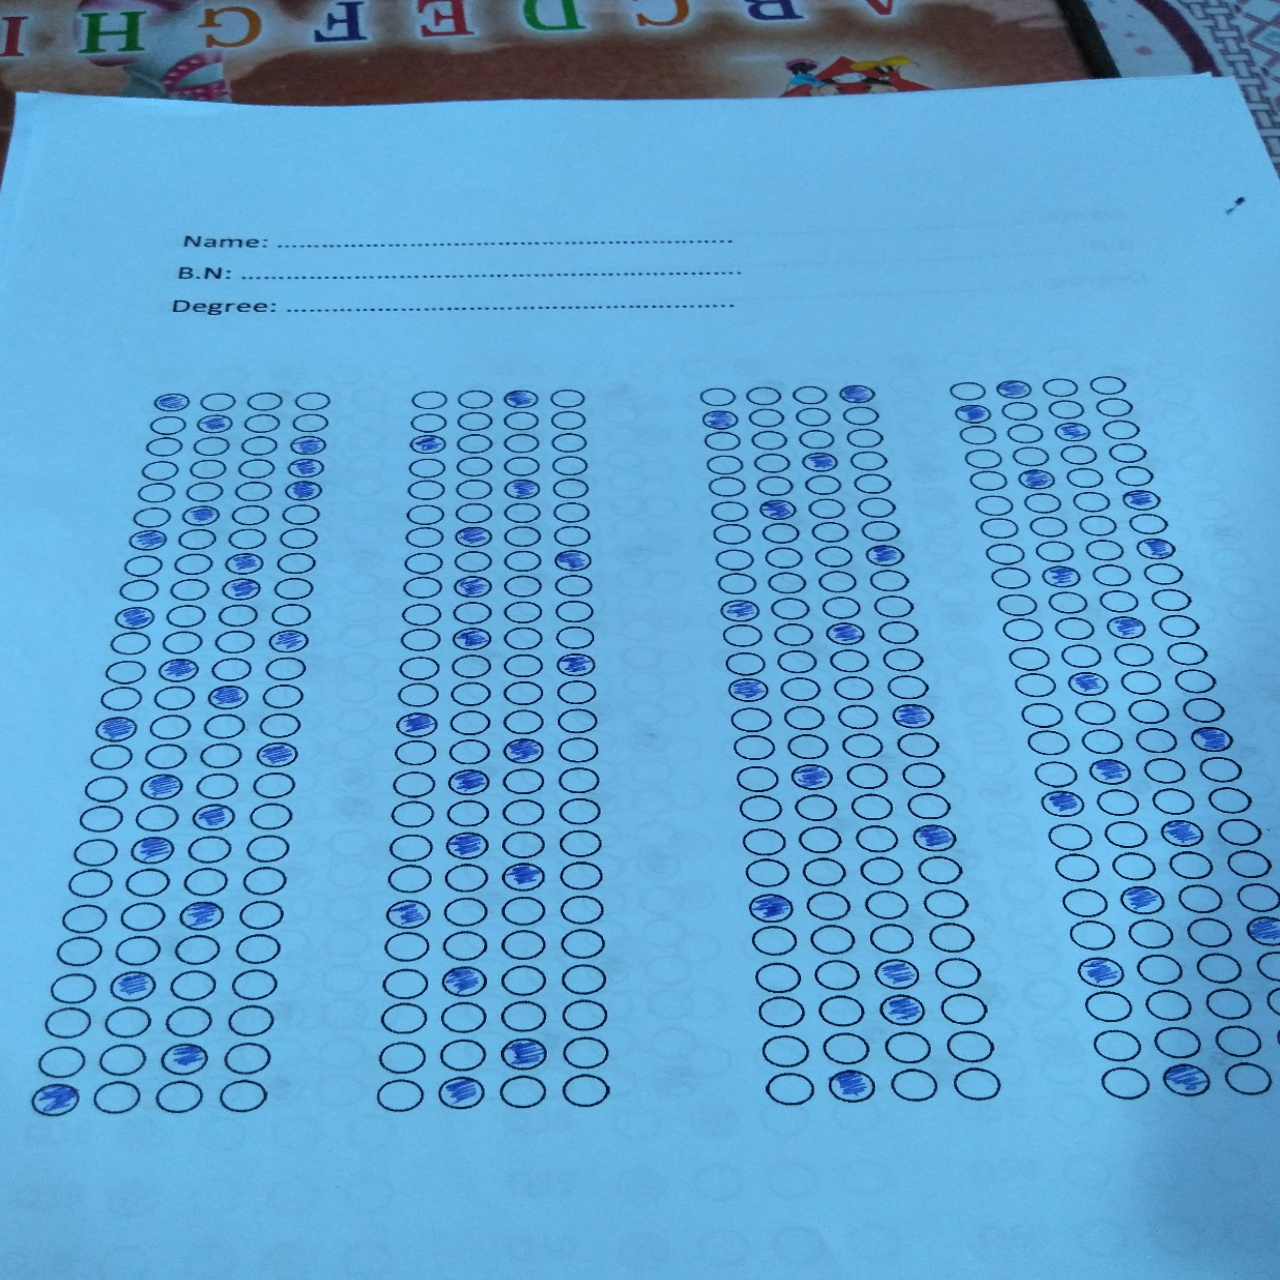not-c: (952, 1065, 1005, 1103), (1223, 1061, 1275, 1098), (1065, 917, 1118, 954), (888, 1067, 940, 1104), (761, 1033, 812, 1070), (379, 965, 431, 1001), (1194, 951, 1247, 987), (883, 1029, 935, 1065), (561, 1034, 612, 1071), (928, 919, 979, 956), (93, 1080, 144, 1116), (497, 1075, 549, 1111), (946, 1029, 998, 1065), (1152, 1024, 1204, 1061), (1091, 1028, 1143, 1064), (1143, 987, 1194, 1023), (1135, 952, 1186, 988), (815, 993, 866, 1029), (810, 956, 862, 993), (753, 960, 804, 996), (754, 994, 806, 1029), (96, 1042, 147, 1078), (379, 1000, 429, 1036), (561, 1074, 612, 1110), (1099, 1065, 1150, 1102), (1216, 1022, 1266, 1058), (1083, 988, 1133, 1024), (921, 886, 972, 922), (154, 1080, 205, 1115), (374, 1078, 425, 1114), (558, 964, 610, 999), (939, 992, 990, 1027), (1204, 987, 1255, 1022), (932, 956, 983, 992), (749, 924, 801, 959), (866, 921, 918, 956), (36, 1046, 87, 1081), (376, 1041, 427, 1076), (559, 998, 610, 1033), (764, 1073, 815, 1108), (821, 1030, 871, 1065), (806, 922, 857, 958), (802, 888, 853, 922), (438, 1037, 488, 1073), (862, 888, 912, 922), (741, 856, 792, 888), (738, 825, 790, 858), (795, 823, 846, 856), (45, 1006, 94, 1040), (168, 968, 218, 1001), (217, 1080, 267, 1112), (1175, 883, 1225, 915), (111, 933, 161, 966), (49, 971, 98, 1003), (102, 1006, 151, 1039), (223, 1042, 272, 1075), (799, 855, 849, 887), (1223, 847, 1272, 880), (1126, 918, 1176, 951), (1185, 915, 1234, 948), (237, 899, 287, 931), (59, 903, 109, 934), (55, 935, 105, 967), (171, 934, 222, 966), (163, 1005, 213, 1036), (857, 855, 907, 886), (915, 855, 966, 886), (1051, 853, 1102, 885), (1060, 887, 1110, 919), (1099, 818, 1150, 850), (1204, 784, 1254, 816), (556, 859, 604, 892), (382, 930, 430, 962), (234, 933, 282, 966), (501, 964, 549, 996), (501, 999, 549, 1032), (438, 1000, 486, 1033), (1167, 847, 1216, 880), (246, 801, 295, 832), (231, 968, 280, 1000), (226, 1005, 275, 1036), (1111, 850, 1160, 881), (1216, 816, 1265, 847), (442, 862, 490, 893), (498, 765, 546, 797), (498, 828, 546, 859), (557, 796, 605, 828), (554, 734, 602, 765), (441, 896, 489, 927), (442, 930, 490, 961), (558, 927, 606, 959), (118, 900, 166, 932), (1046, 821, 1095, 851), (445, 797, 493, 828), (499, 797, 547, 828), (556, 828, 604, 858), (556, 765, 604, 796), (557, 896, 605, 926), (501, 896, 549, 926), (499, 928, 547, 959), (72, 838, 120, 869), (727, 706, 775, 736), (1141, 755, 1189, 785), (1194, 753, 1242, 783), (1235, 881, 1280, 914), (244, 835, 293, 864), (240, 866, 290, 896), (906, 790, 953, 821), (193, 770, 241, 799), (197, 741, 245, 770), (67, 867, 115, 897), (181, 867, 229, 897), (1095, 787, 1143, 816), (852, 824, 900, 853), (851, 792, 899, 822), (792, 794, 840, 823), (730, 733, 778, 762), (722, 648, 770, 678), (1148, 787, 1197, 815), (447, 736, 493, 765), (250, 770, 297, 799), (188, 835, 234, 864), (445, 708, 493, 736), (81, 775, 129, 803), (123, 869, 171, 897), (737, 794, 785, 822), (733, 765, 781, 794), (1032, 760, 1080, 788), (387, 864, 433, 893), (79, 804, 124, 833), (389, 799, 436, 828), (142, 742, 189, 770), (87, 742, 134, 770), (132, 804, 179, 832), (392, 738, 440, 765), (108, 629, 154, 658), (390, 769, 436, 797), (840, 731, 886, 760), (844, 762, 890, 790), (1125, 697, 1171, 726), (388, 835, 435, 862), (719, 621, 765, 648), (159, 629, 205, 656), (552, 624, 598, 651), (501, 651, 546, 678), (502, 708, 547, 735), (151, 683, 197, 710), (257, 712, 302, 738), (202, 712, 247, 738), (149, 714, 195, 741), (775, 648, 821, 675), (836, 703, 881, 730), (825, 647, 871, 674), (885, 674, 931, 701), (896, 731, 941, 758), (900, 762, 946, 789), (1000, 615, 1046, 642), (209, 658, 256, 683), (1019, 702, 1065, 728), (211, 629, 256, 656), (777, 676, 822, 703), (782, 704, 826, 731), (831, 674, 876, 701), (876, 618, 920, 645), (1028, 729, 1073, 756), (1133, 727, 1178, 754), (1180, 696, 1225, 723), (1007, 644, 1051, 670), (996, 592, 1041, 619), (989, 565, 1034, 592), (1097, 587, 1142, 614), (395, 655, 441, 681), (396, 680, 442, 706), (552, 679, 598, 704), (554, 707, 600, 733), (102, 659, 148, 685), (98, 686, 144, 712), (258, 683, 304, 709), (1012, 673, 1057, 699), (1141, 561, 1186, 587), (787, 733, 830, 760), (881, 646, 925, 673), (1080, 728, 1123, 755), (1073, 700, 1116, 727), (1118, 669, 1162, 696), (1165, 640, 1208, 667), (1156, 612, 1199, 639), (1090, 561, 1133, 588), (263, 658, 309, 682), (449, 652, 493, 678), (451, 681, 496, 707), (499, 680, 544, 706), (769, 622, 813, 648), (271, 577, 316, 601), (166, 578, 212, 602), (163, 604, 209, 628), (216, 604, 261, 628), (268, 604, 314, 628), (501, 626, 546, 651), (765, 597, 811, 621), (1060, 644, 1105, 668), (1150, 587, 1193, 613), (397, 628, 442, 653), (871, 594, 915, 619), (819, 594, 864, 619), (1173, 668, 1216, 694), (169, 552, 215, 576), (501, 574, 546, 598), (400, 576, 445, 599), (399, 602, 444, 626), (551, 599, 597, 622), (454, 387, 497, 411), (1046, 590, 1089, 614), (121, 554, 165, 578), (273, 552, 318, 576), (402, 552, 447, 576), (403, 457, 448, 481), (407, 386, 451, 409), (549, 524, 593, 547), (117, 579, 162, 602), (1053, 617, 1097, 640), (840, 427, 885, 450), (1083, 537, 1125, 561), (817, 570, 859, 594), (717, 572, 760, 597), (713, 547, 755, 572), (448, 601, 493, 624), (501, 601, 546, 624), (176, 527, 219, 551), (403, 503, 447, 526), (1114, 642, 1157, 666), (1033, 539, 1076, 563), (983, 542, 1027, 565), (1056, 443, 1099, 467), (765, 570, 806, 594), (762, 545, 803, 570), (813, 545, 855, 570), (762, 519, 803, 544), (501, 525, 545, 547), (1026, 516, 1070, 538), (451, 550, 493, 573), (855, 496, 897, 519), (406, 411, 449, 434), (452, 409, 496, 431), (452, 433, 496, 455), (501, 502, 544, 524), (498, 409, 542, 431), (549, 501, 592, 523), (552, 576, 595, 598), (809, 520, 852, 543), (709, 524, 753, 546), (1064, 467, 1108, 489), (973, 493, 1016, 516), (1046, 399, 1089, 421), (999, 400, 1042, 422), (946, 381, 989, 403), (1085, 375, 1129, 397), (753, 474, 796, 496), (704, 475, 748, 497), (745, 429, 789, 451), (794, 428, 837, 450), (747, 407, 790, 429), (701, 429, 744, 451), (549, 409, 590, 433), (403, 527, 445, 550), (406, 478, 448, 501), (452, 502, 495, 524), (501, 550, 543, 572), (499, 433, 542, 455), (546, 387, 588, 409), (806, 498, 849, 520), (978, 517, 1020, 539), (1078, 515, 1121, 537), (1071, 490, 1114, 512), (1021, 491, 1063, 513), (968, 470, 1010, 492), (962, 445, 1005, 468), (1009, 444, 1051, 467), (1108, 442, 1150, 464), (1039, 376, 1081, 399), (794, 406, 836, 428), (697, 386, 740, 408), (869, 568, 908, 592), (452, 455, 496, 476), (452, 479, 496, 501), (499, 455, 543, 476), (550, 478, 593, 499), (858, 520, 901, 542), (709, 499, 753, 520), (1099, 420, 1143, 441), (1092, 397, 1136, 418), (838, 406, 881, 427), (850, 472, 893, 493), (801, 474, 844, 495), (701, 452, 744, 474), (749, 452, 792, 474), (742, 384, 785, 406), (788, 384, 831, 406), (143, 436, 184, 458), (190, 435, 231, 457), (239, 434, 280, 456), (236, 458, 277, 481), (188, 458, 229, 481), (280, 504, 321, 526), (547, 431, 588, 454), (1255, 948, 1280, 985), (277, 527, 319, 549), (1126, 513, 1169, 535), (1003, 424, 1046, 445), (956, 424, 999, 445), (1114, 465, 1156, 486), (846, 450, 888, 471), (229, 504, 268, 526), (184, 481, 225, 502), (139, 459, 181, 481), (131, 506, 172, 527), (549, 454, 590, 475), (241, 413, 281, 434), (148, 415, 188, 436), (227, 527, 267, 549), (290, 413, 331, 433), (233, 481, 274, 501), (135, 483, 176, 503), (197, 392, 237, 411), (244, 392, 284, 411), (292, 392, 332, 411), (1265, 985, 1280, 1021)
taken-c: (27, 1081, 82, 1118), (496, 1035, 550, 1073), (381, 897, 436, 933), (434, 1074, 486, 1111), (156, 1041, 210, 1077), (436, 962, 490, 998), (1073, 955, 1126, 990), (1114, 883, 1167, 917), (825, 1069, 877, 1104), (105, 969, 157, 1003), (871, 956, 922, 990), (1160, 1062, 1212, 1096), (497, 860, 547, 894), (444, 830, 495, 864), (877, 992, 927, 1026), (1156, 817, 1208, 849), (498, 733, 549, 765), (392, 708, 442, 741), (1039, 787, 1089, 819), (445, 765, 495, 798), (910, 822, 960, 853), (128, 835, 177, 866), (745, 893, 796, 924), (189, 801, 237, 832), (789, 762, 838, 792), (1085, 758, 1135, 788), (1189, 726, 1238, 755), (176, 900, 224, 930), (1065, 669, 1114, 699), (447, 624, 495, 652), (1242, 914, 1280, 949), (554, 651, 602, 678), (449, 574, 497, 601), (450, 524, 498, 551), (726, 676, 771, 704), (203, 682, 250, 709), (138, 772, 185, 799), (549, 549, 595, 576), (821, 619, 867, 646), (890, 702, 937, 729), (254, 741, 300, 768), (1039, 563, 1084, 590), (1015, 467, 1061, 493), (1132, 537, 1179, 563), (1119, 488, 1164, 515), (155, 658, 200, 683), (94, 715, 139, 741), (1104, 615, 1150, 641), (406, 434, 449, 459), (222, 551, 266, 576), (219, 577, 264, 601), (497, 387, 542, 411), (501, 478, 546, 502), (756, 498, 801, 522), (862, 544, 906, 567), (717, 599, 762, 622), (992, 377, 1035, 401), (837, 382, 880, 406), (179, 504, 222, 527), (127, 527, 169, 551), (113, 606, 155, 629), (267, 629, 309, 653), (951, 402, 993, 425), (1050, 421, 1092, 443), (701, 409, 741, 433), (284, 457, 325, 479), (195, 413, 237, 434), (287, 435, 329, 456), (801, 451, 840, 474), (282, 479, 324, 501), (150, 392, 192, 411), (1272, 1023, 1280, 1057)
